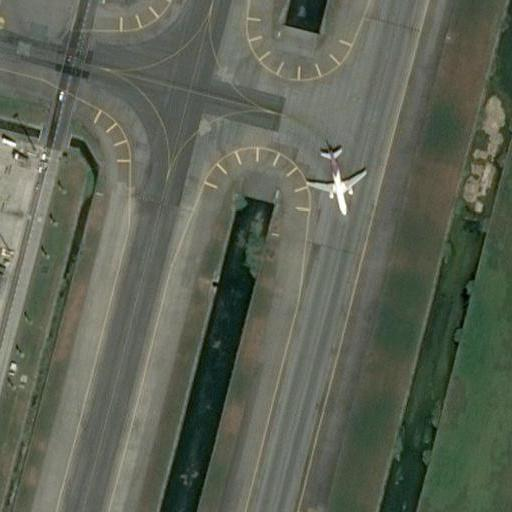Aircraft: (293, 139, 372, 220)
